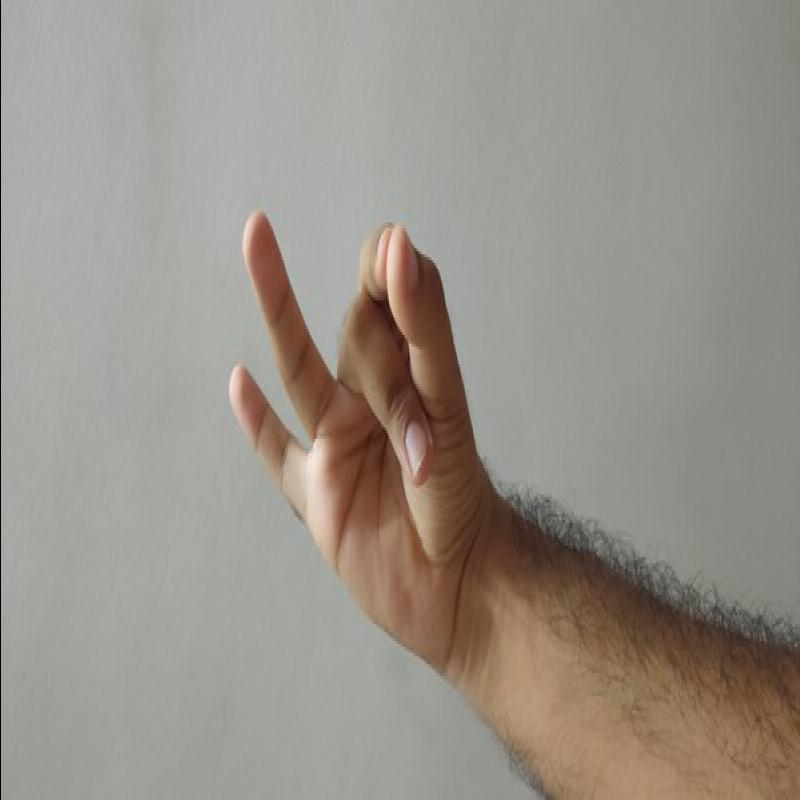Katakam: (211, 194, 502, 681)
